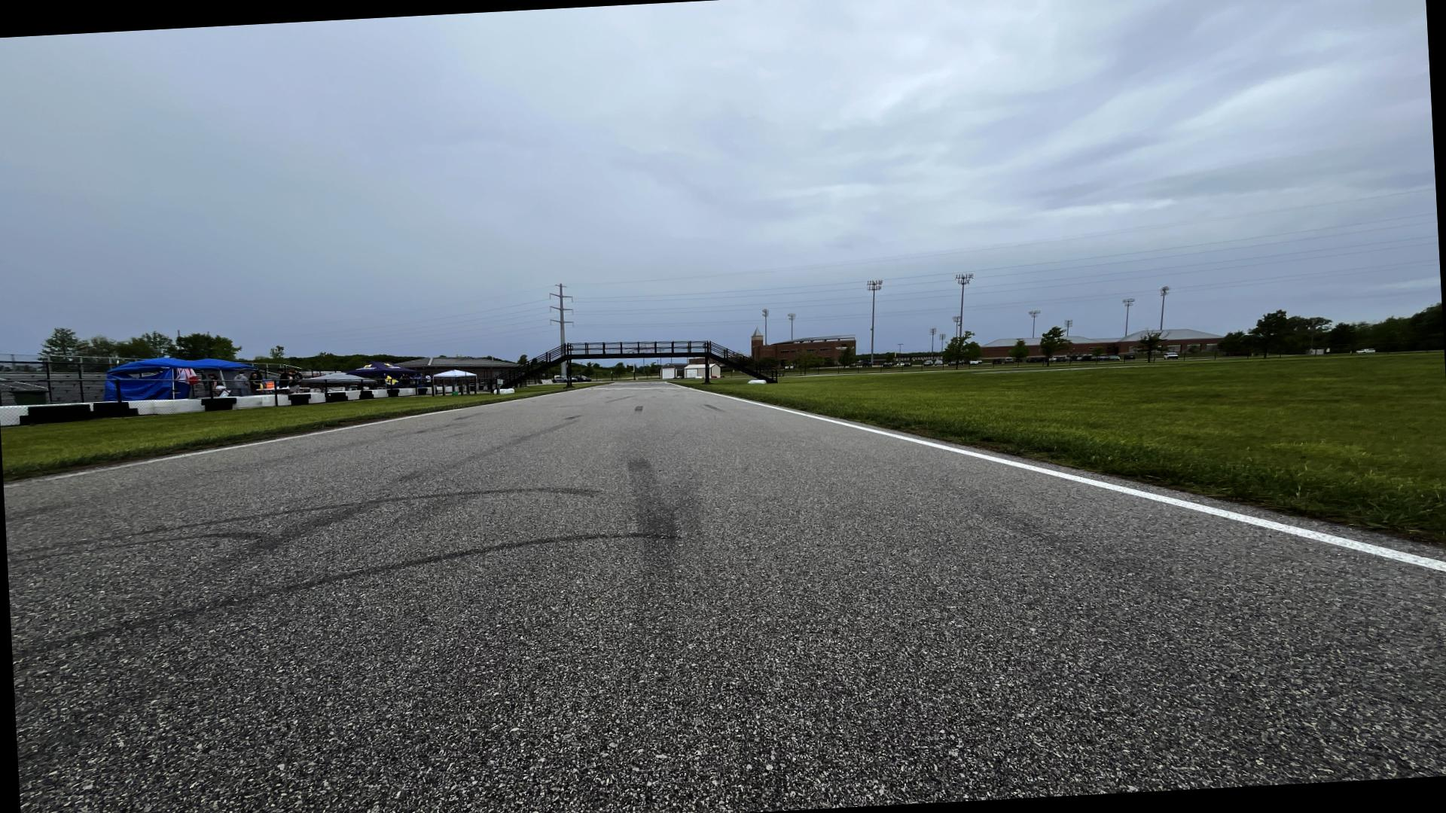white-line: (690, 389, 1445, 574), (4, 391, 571, 489), (667, 383, 683, 388), (583, 385, 599, 388)
